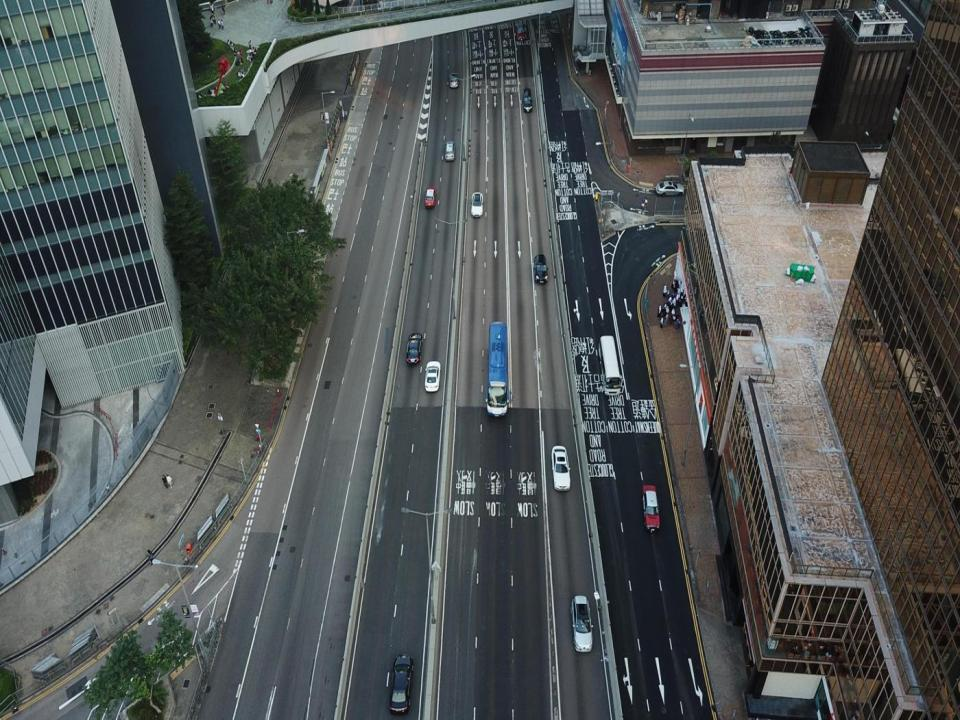bus: (597, 336, 623, 410), (489, 318, 508, 418)
car: (390, 654, 418, 710), (571, 597, 594, 655), (549, 447, 573, 492), (643, 483, 662, 534), (655, 178, 687, 199), (424, 360, 441, 396), (530, 252, 547, 285), (406, 331, 422, 363), (471, 191, 484, 218), (422, 188, 437, 209), (522, 87, 533, 113), (444, 140, 455, 162), (447, 71, 460, 88), (516, 22, 527, 42)
